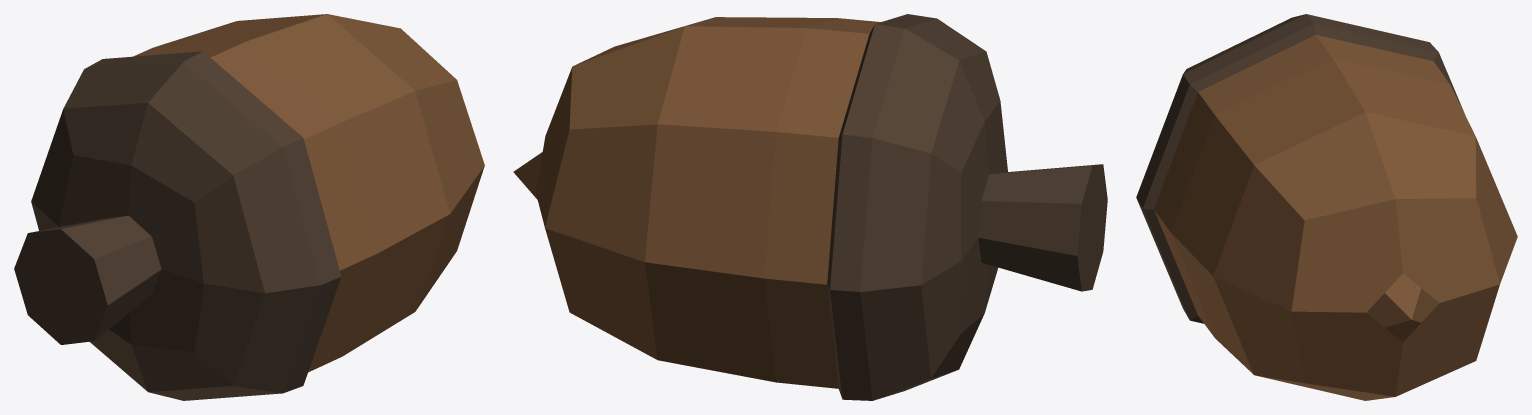
File: dotori10.gltf
3 renders of one model, left to right at view 1: azimuth 30°, elevation 25°; view 2: azimuth 150°, elevation 25°; view 3: azimuth 270°, elevation 25°, orthographic. The views are drawn at different scales.
Visible parts, largest first — view 1: Cube.006_Cube.003, Cube.005_Cube.003; view 2: Cube.005_Cube.003, Cube.006_Cube.003; view 3: Cube.005_Cube.003, Cube.006_Cube.003.
Part boxes in pixels (x1=…): Cube.006_Cube.003: x1=14, y1=51, x2=341, y2=400; Cube.005_Cube.003: x1=133, y1=14, x2=484, y2=372; Cube.005_Cube.003: x1=513, y1=17, x2=880, y2=388; Cube.006_Cube.003: x1=827, y1=14, x2=1107, y2=400; Cube.005_Cube.003: x1=1154, y1=35, x2=1517, y2=400; Cube.006_Cube.003: x1=1136, y1=14, x2=1464, y2=323.
Bounding box in the file's own units: 2.97 × 2.04 × 2.17.
